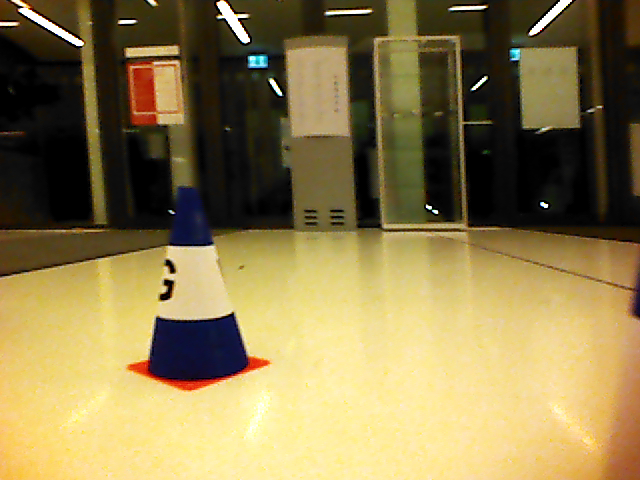bluecone: (145, 185, 251, 380)
